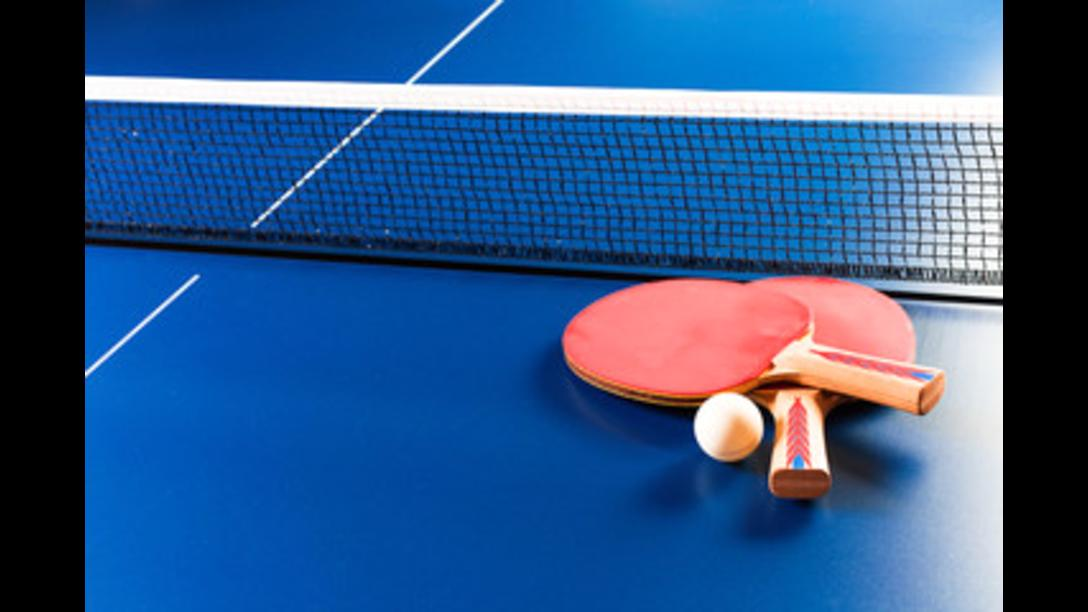Table-Tennis-Ball: (696, 391, 762, 458)
